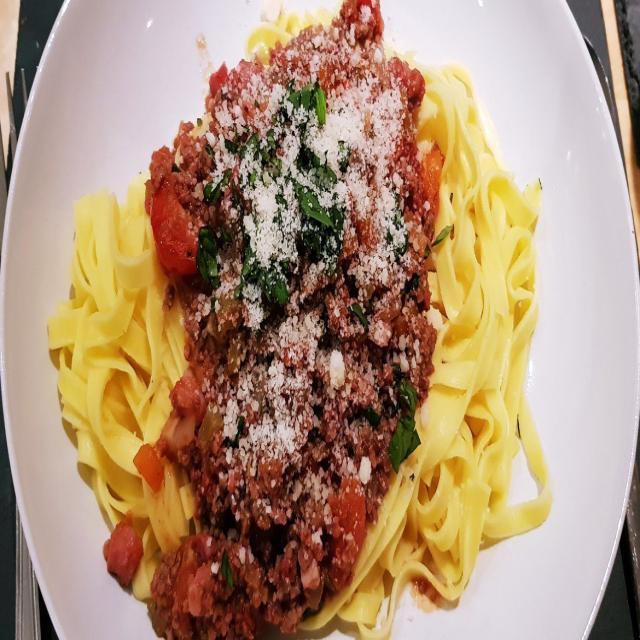Pasta al ragu: (56, 17, 566, 593)
